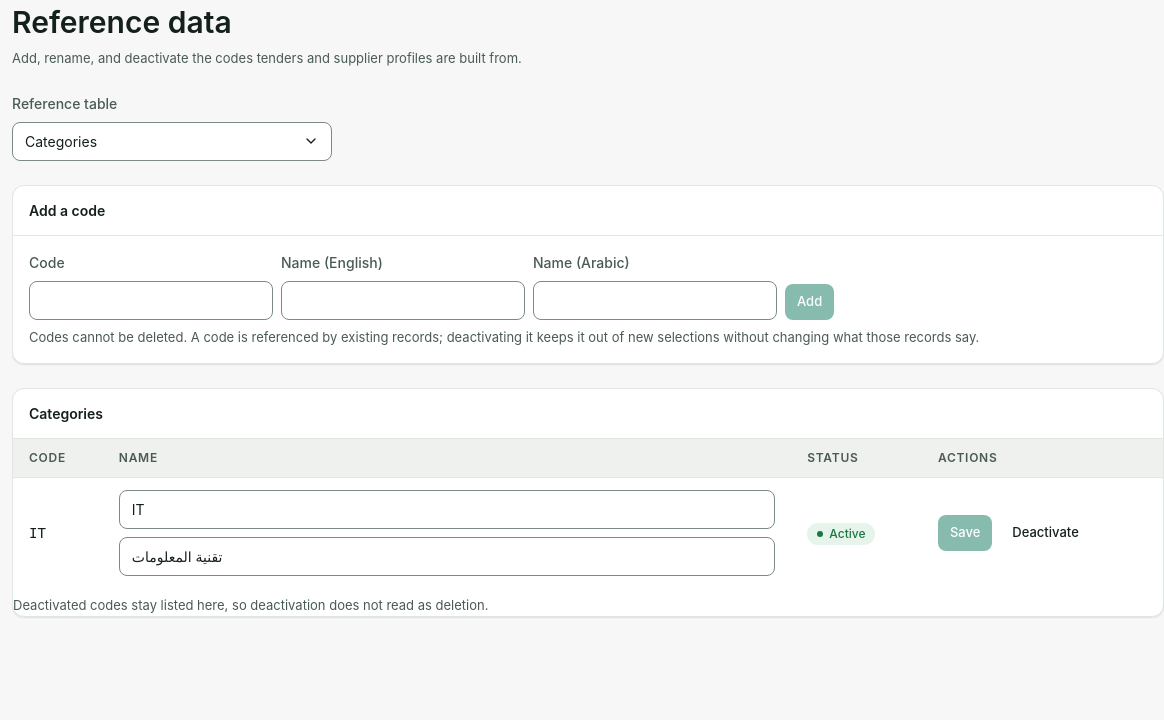
Test: ReferenceDataPage › falls back to the generic message when the server names no rule
In the field labelled "Code": (151, 300) [29,280,273,320], type "NEW"
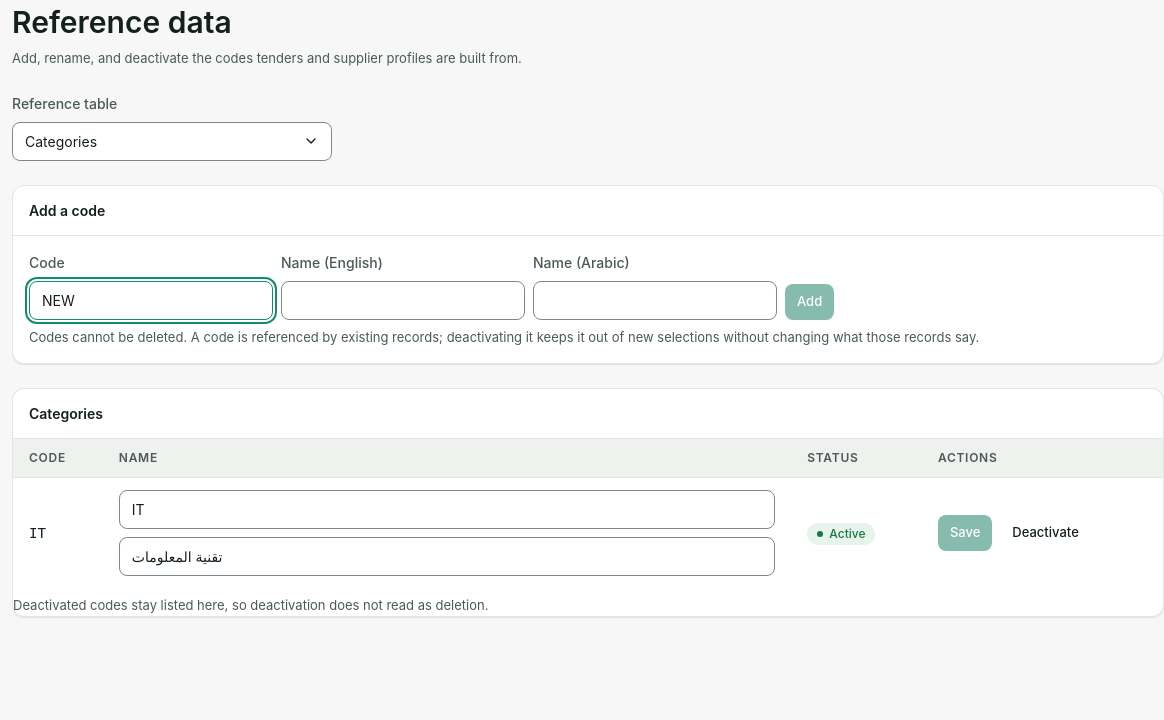
In the field labelled "Name (English)": (403, 300) [281,280,525,320], type "New thing"
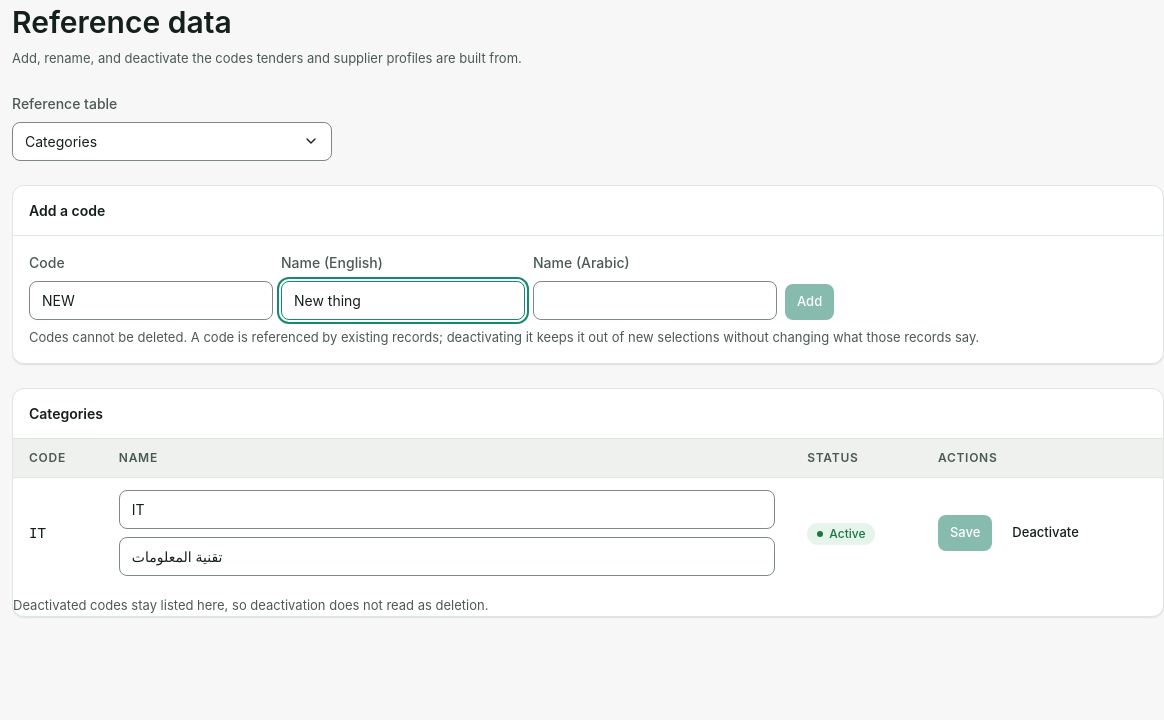
In the field labelled "Name (Arabic)": (655, 300) [533,280,777,320], type "جديد"
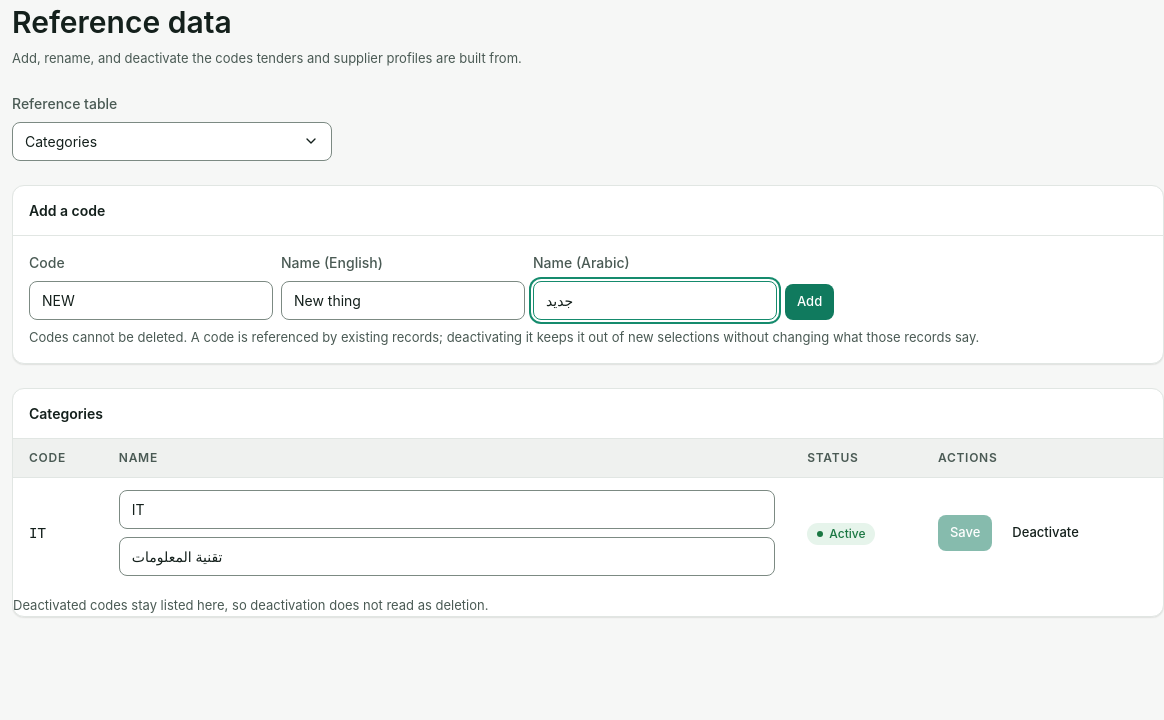
Click the button "Add": (810, 302) [785,284,834,320]
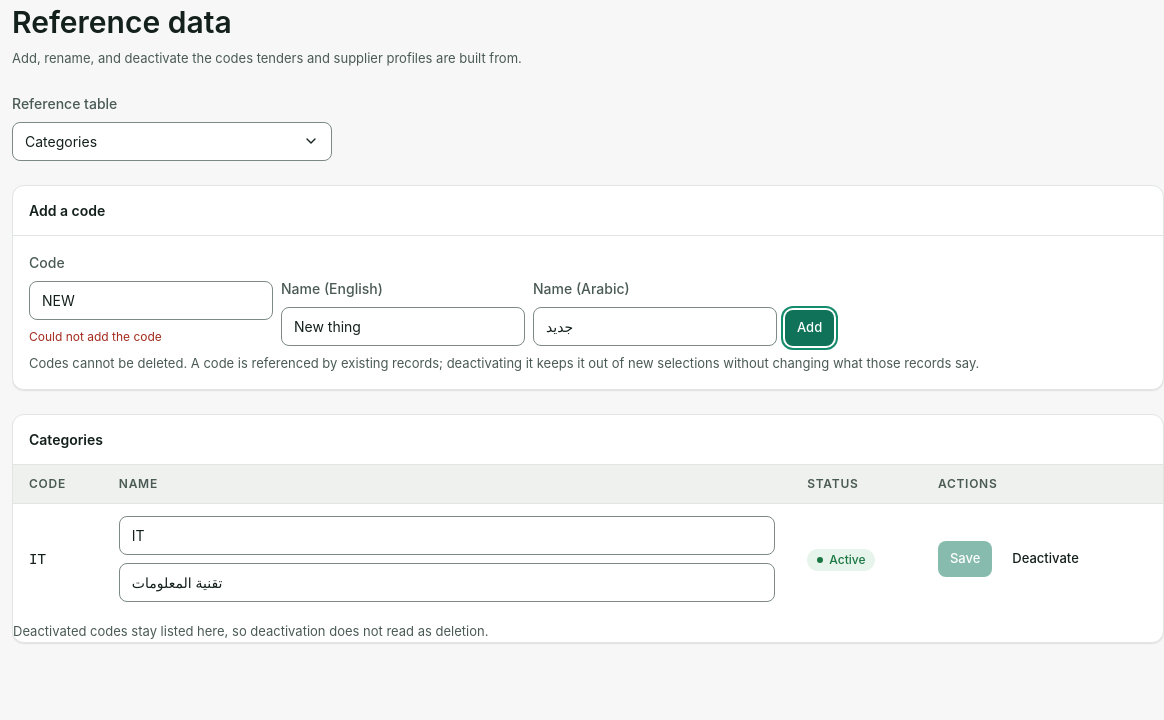
Check: the text "Could not add the code" is shown, box [29,328,162,344]
